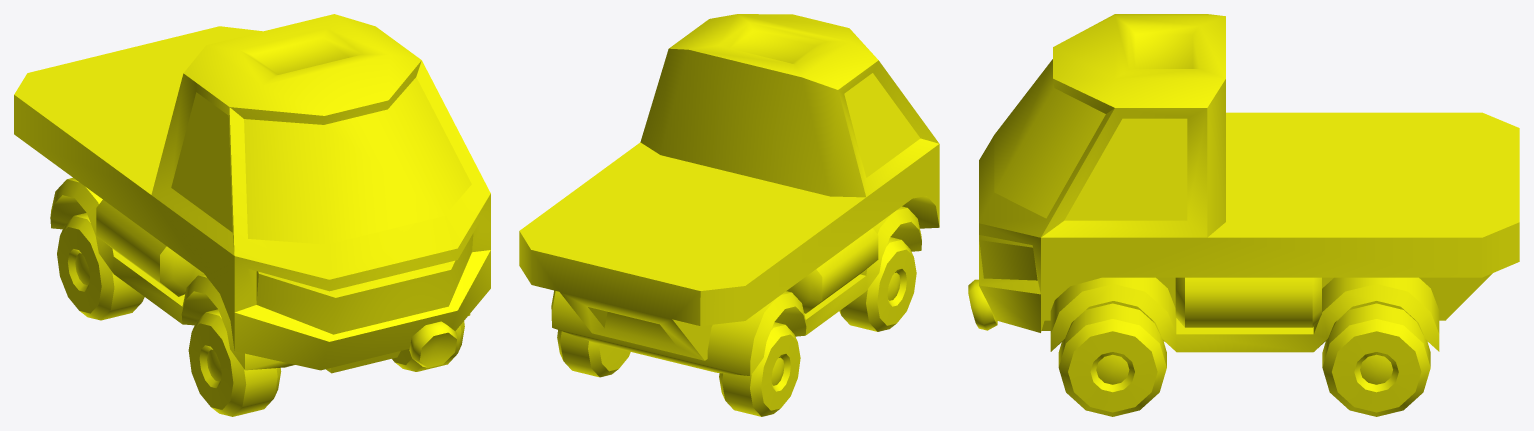
Rendered from kaykit-spacetruck.glb.
The picture shows the model from 3 angles, left to right: view 1: azimuth 30°, elevation 25°; view 2: azimuth 150°, elevation 25°; view 3: azimuth 270°, elevation 25°; orthographic projection. The views are drawn at different scales.
Parts seen in each view (by area): view 1: spacetruck; view 2: spacetruck; view 3: spacetruck.
Part boxes in pixels (bbox=[...]): spacetruck: bbox=[14, 14, 490, 416]; spacetruck: bbox=[519, 14, 939, 416]; spacetruck: bbox=[968, 14, 1519, 416].
Bounding box in the file's own units: 0.4895 × 0.5663 × 0.8933.
